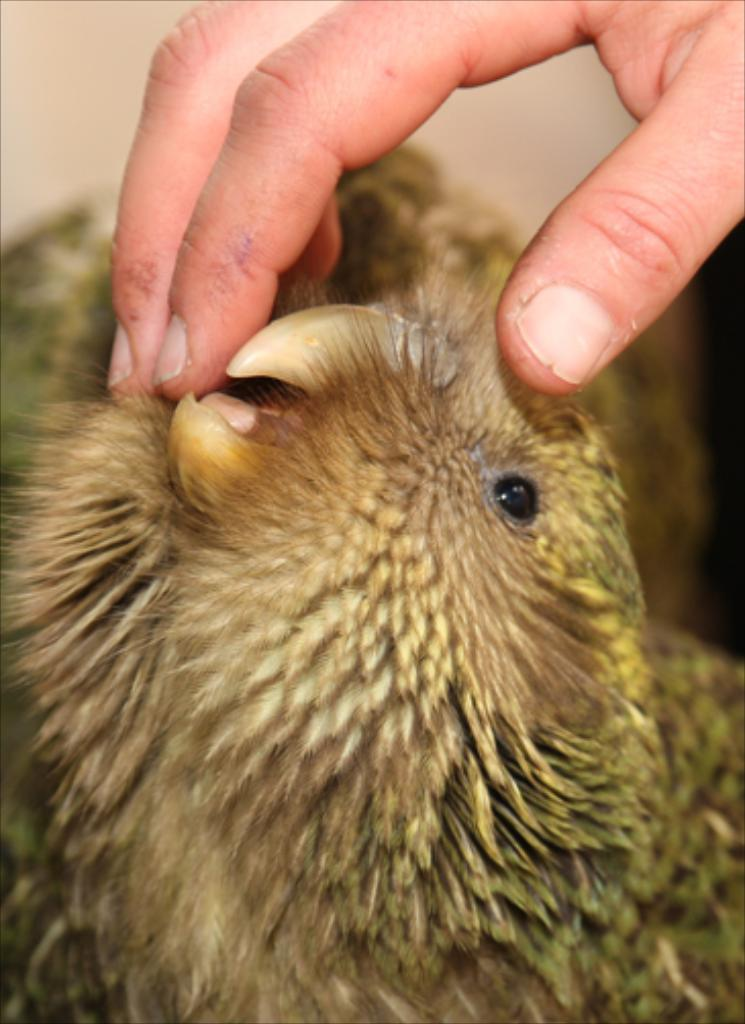Human_hand: (104, 0, 743, 406)
